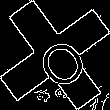O_NW: (23, 22, 87, 88)
